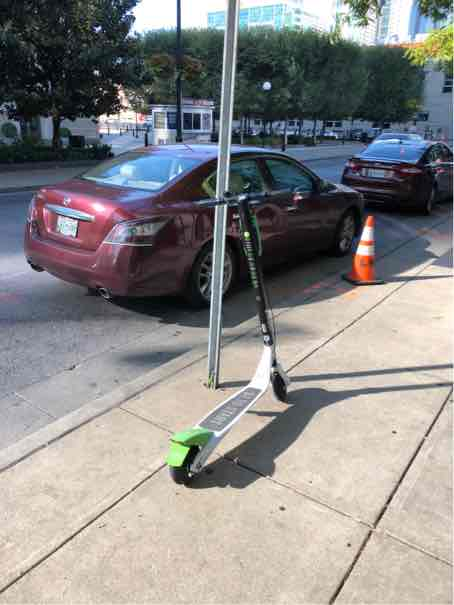scooter: (164, 170, 299, 491)
